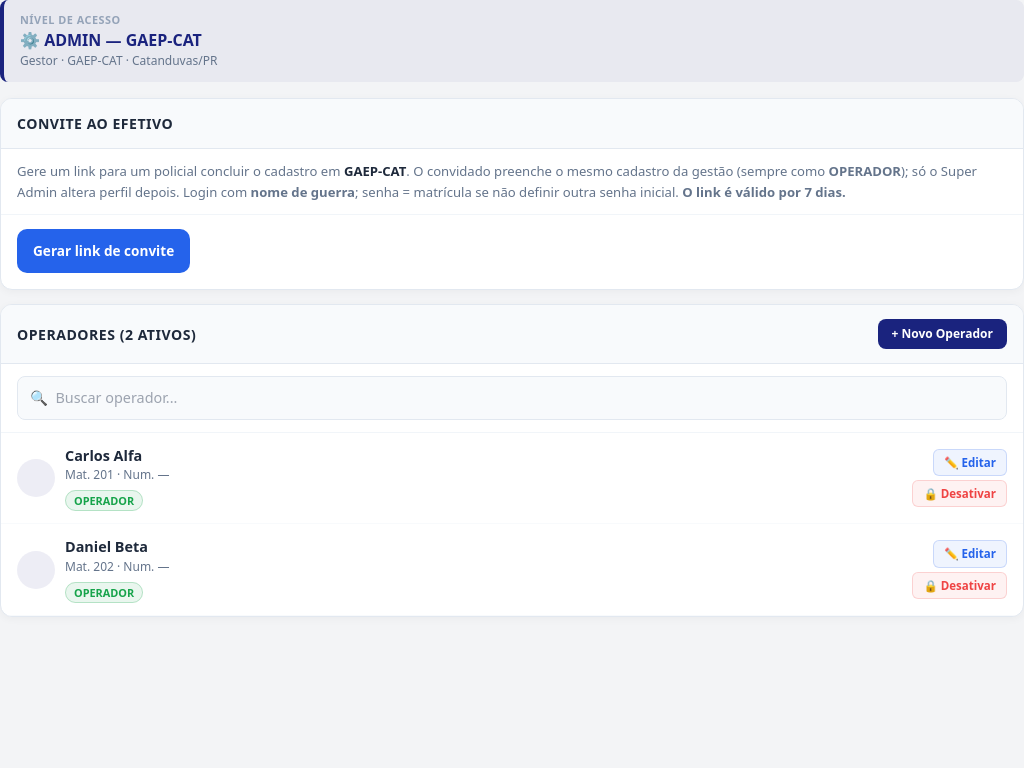
it: GestaoClient › TabEfetivo: busca filtra por nome
The image size is (1024, 768).
Type "daniel" into the field with placeholder "🔍 Buscar operador...".
click(512, 398); type("daniel")  # box [17, 376, 1007, 420]
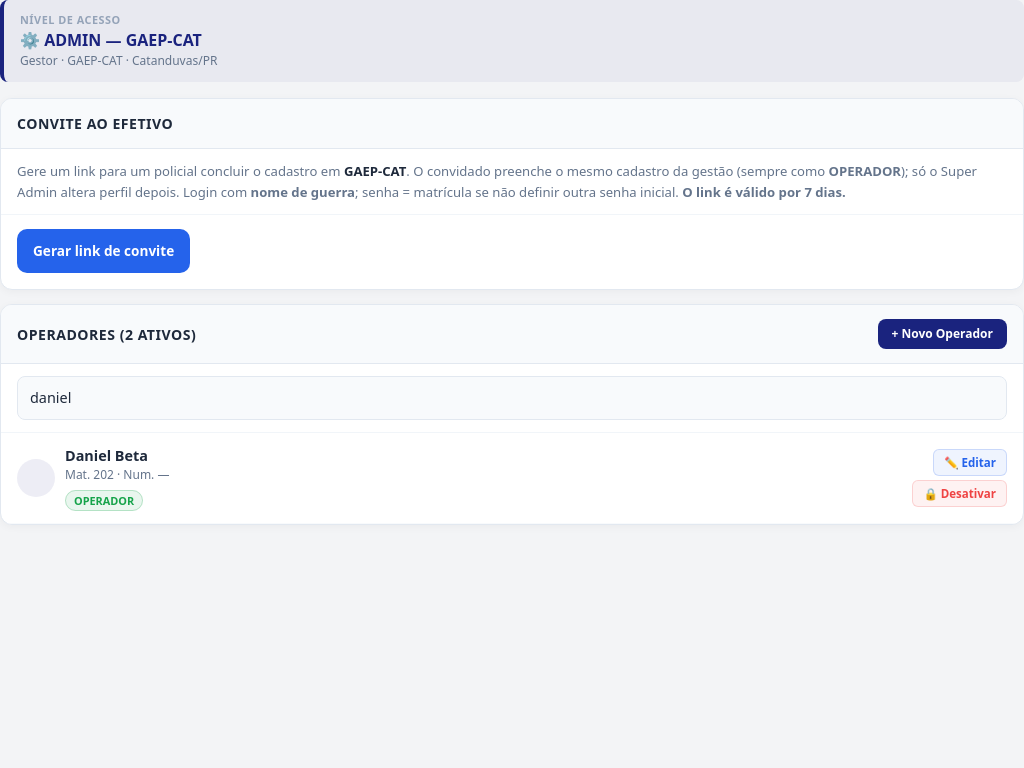
Expected: the text "Daniel Beta" is shown, [65, 446, 148, 465]
Result: the text "Carlos Alfa" is gone
